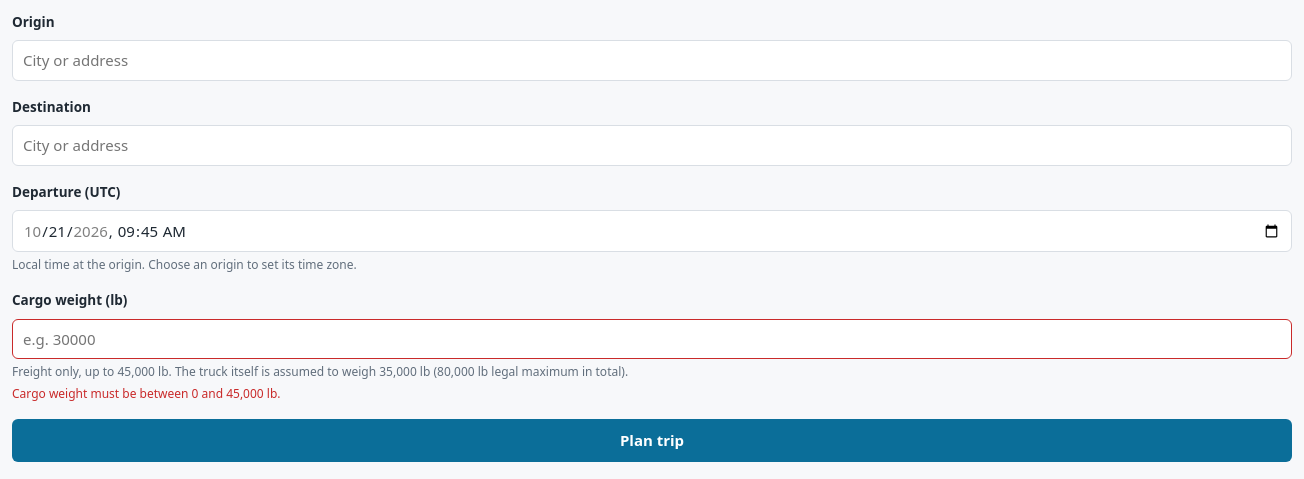
Test: TripForm › hides a server error once the user edits that field
The image size is (1304, 479).
Expected: the text "Cargo weight must be between 0 and 45,000 lb." is shown, 12,385 -> 280,402
Type "30000" into the number field labelled "Cargo weight (lb)". click: (652, 339)
box: 12,318 -> 1292,359
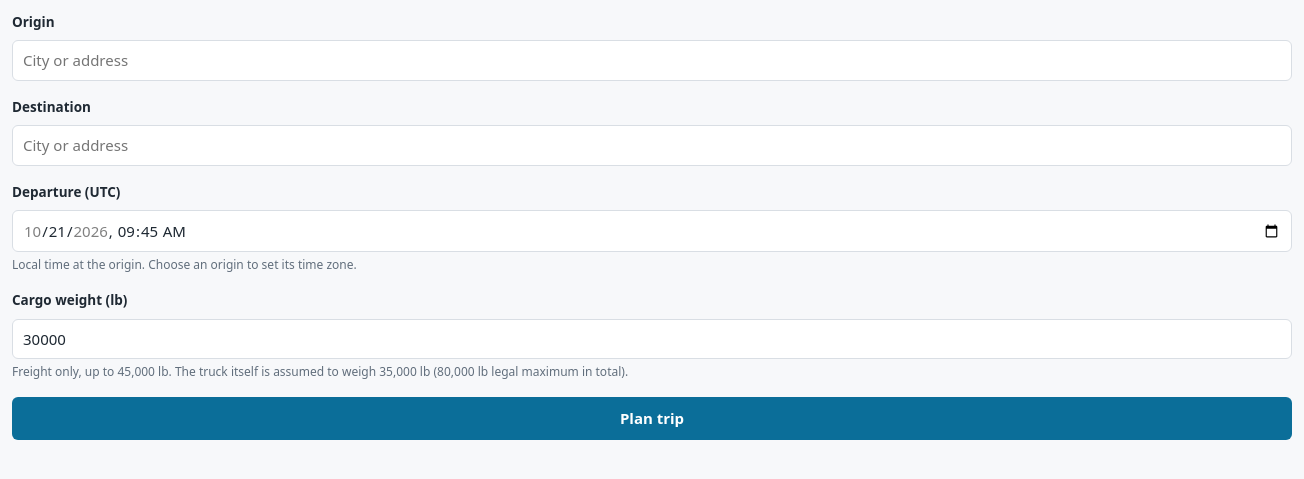
Result: the text "Cargo weight must be between" is gone
